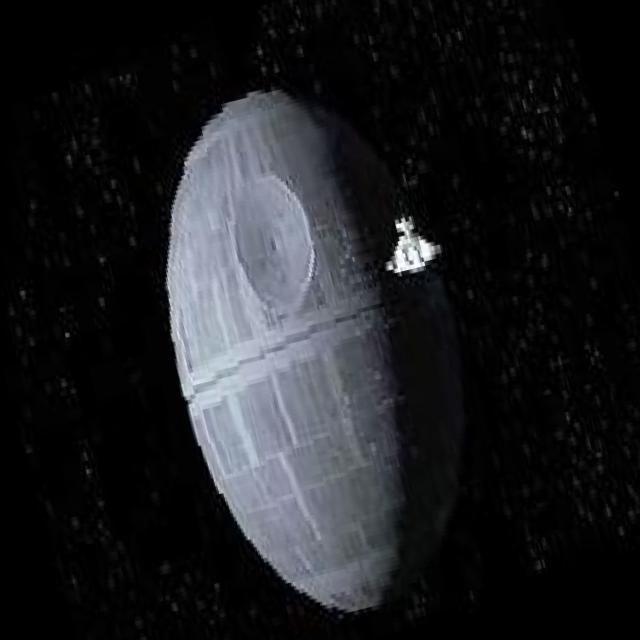Death Star: (107, 43, 536, 626)
